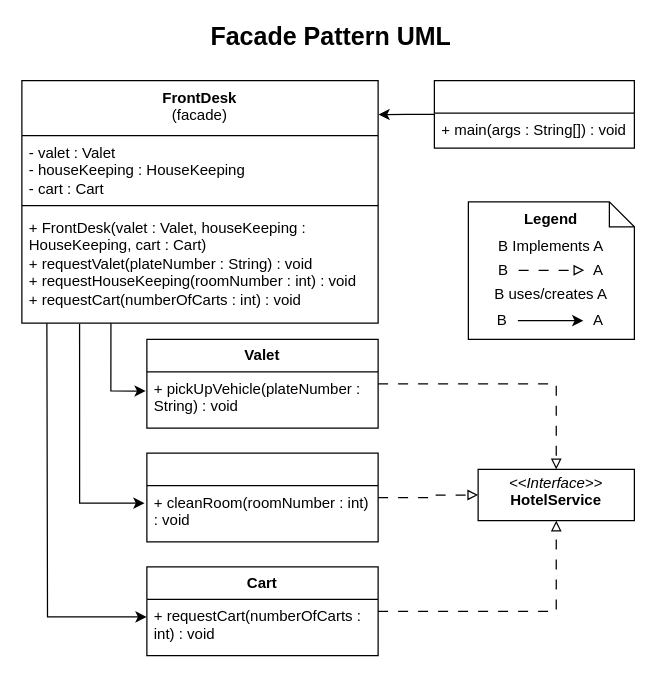
This 656x680 diagram has some shape labels left out. Each missing label, with the box of its shape:
HotelApp: (433, 79, 634, 148)
HouseKeeping: (146, 452, 378, 542)
